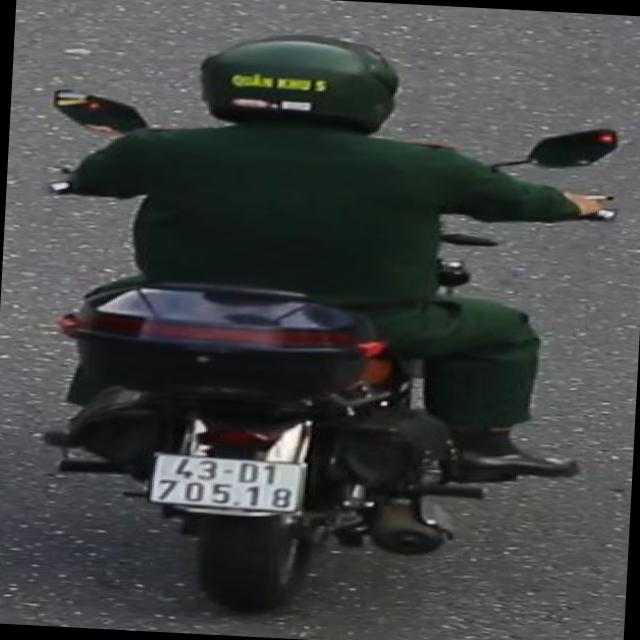LP: (145, 446, 309, 522)
helmet: (173, 17, 428, 160)
